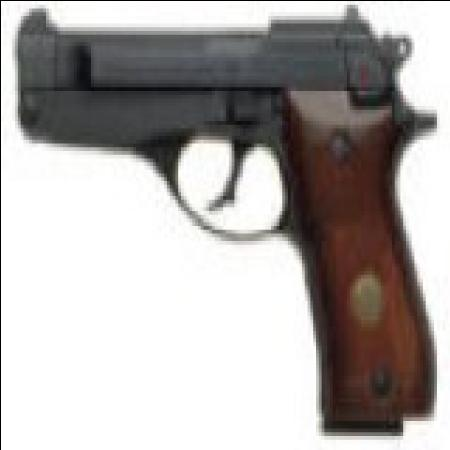Pistol: (19, 3, 438, 432)
